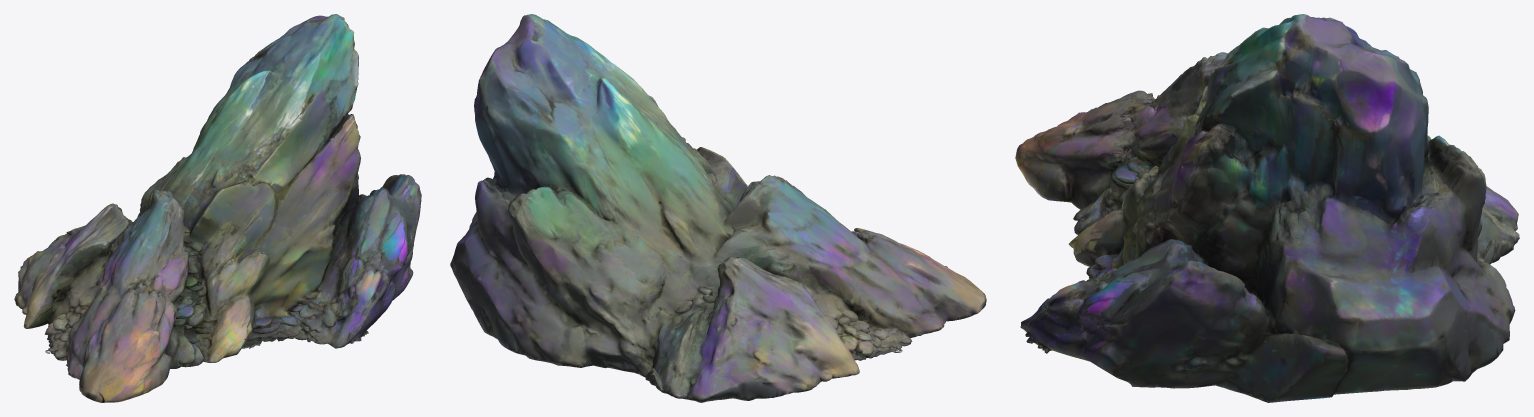
Rendered from Prismatic_Peaks.glb.
3 renders of one model, left to right at view 1: azimuth 30°, elevation 25°; view 2: azimuth 150°, elevation 25°; view 3: azimuth 270°, elevation 25°, orthographic. The views are drawn at different scales.
Parts seen in each view (by area): view 1: Prismatic_Peaks; view 2: Prismatic_Peaks; view 3: Prismatic_Peaks.
Boxes of the visible parts, left/top/right/bottom form: Prismatic_Peaks: left=14, top=14, right=421, bottom=402; Prismatic_Peaks: left=450, top=14, right=986, bottom=402; Prismatic_Peaks: left=1015, top=14, right=1519, bottom=402.
Size of the model in its own units: 1.9 by 1.2 by 1.46.
Materials: 1 (1 with a texture image).
